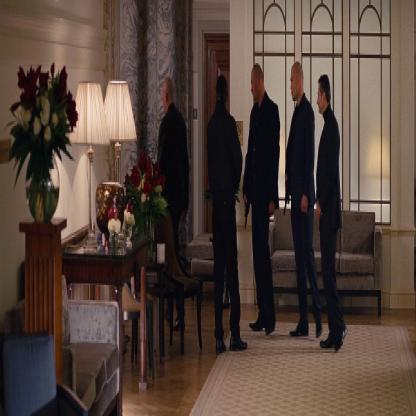Gun: (280, 169, 291, 216), (242, 194, 251, 229)
